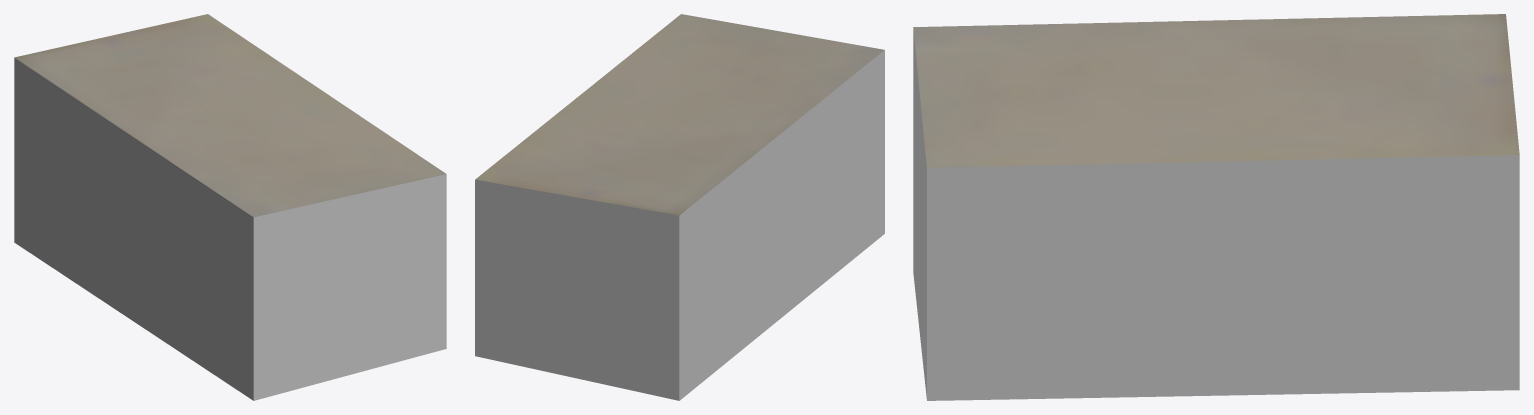
The model's file is DEBW_0010007TxdZ.gltf.
The picture shows the model from 3 angles, left to right: view 1: azimuth 30°, elevation 25°; view 2: azimuth 150°, elevation 25°; view 3: azimuth 270°, elevation 25°; orthographic projection. The views are drawn at different scales.
Visible parts, largest first — view 1: Z_UP; view 2: Z_UP; view 3: Z_UP.
Boxes of the visible parts, box(x1,y1,x2,y2) form: Z_UP: box(14, 14, 446, 400); Z_UP: box(475, 14, 884, 400); Z_UP: box(913, 14, 1519, 400).
Bounding box in the file's own units: 3.38 × 2.78 × 6.18.
2 materials, 1 textured.
